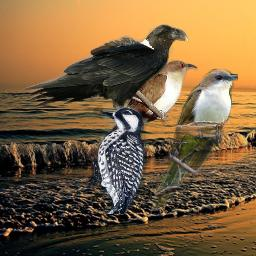Crow: (22, 23, 191, 127)
Cuckoo: (149, 67, 238, 211), (98, 59, 198, 155)
Woodpecker: (86, 104, 147, 214)
